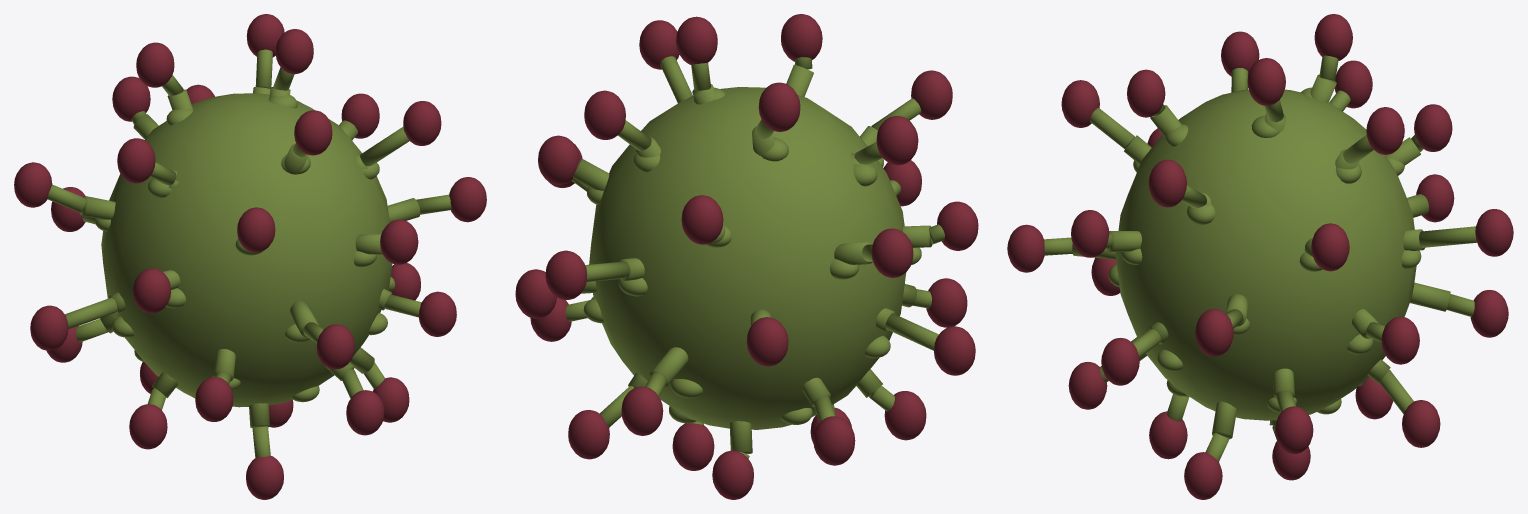
Rendered from aithreat.glb.
The picture shows the model from 3 angles, left to right: view 1: azimuth 30°, elevation 25°; view 2: azimuth 150°, elevation 25°; view 3: azimuth 270°, elevation 25°; orthographic projection. The views are drawn at different scales.
Parts seen in each view (by area): view 1: nucleus_tissue.003, nucleus_lesion.003; view 2: nucleus_tissue.003, nucleus_lesion.003; view 3: nucleus_tissue.003, nucleus_lesion.003.
Part boxes in pixels (<box>): nucleus_tissue.003: <box>47,49,451,457</box>; nucleus_lesion.003: <box>14,14,486,499</box>; nucleus_tissue.003: <box>565,56,944,458</box>; nucleus_lesion.003: <box>515,14,978,499</box>; nucleus_tissue.003: <box>1044,55,1476,461</box>; nucleus_lesion.003: <box>1007,14,1513,499</box>.
Size of the model in its own units: 1.12 by 1.05 by 1.1.
